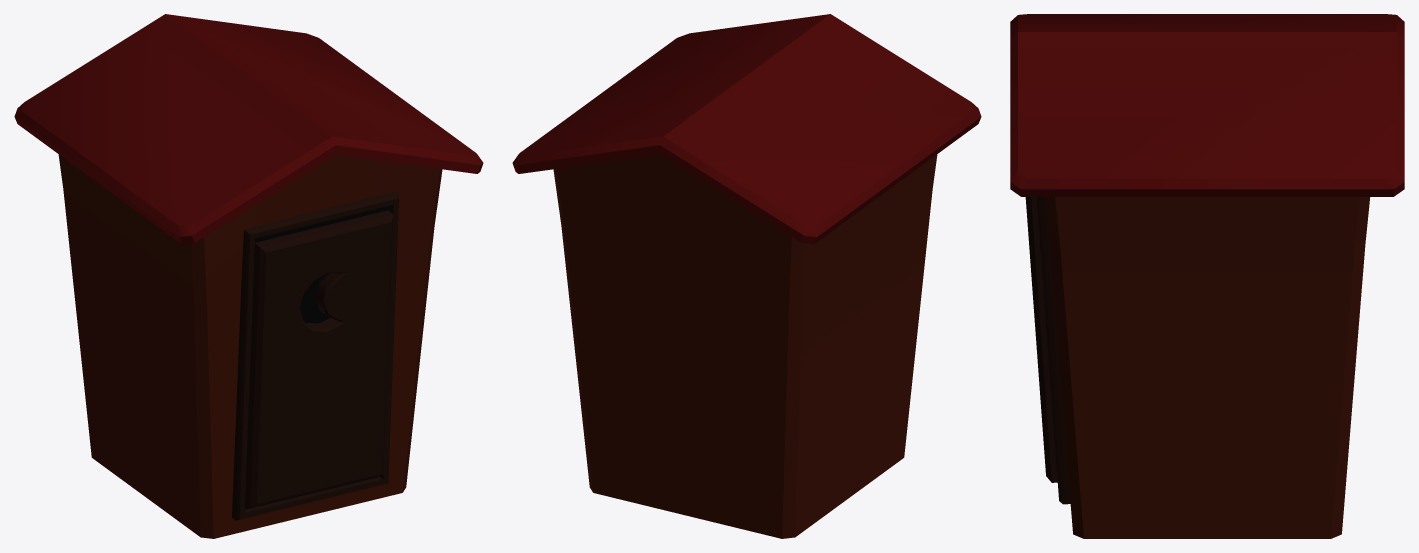
The model's file is Latrine.fbx.
3 views of the same model, side by side, from view 1: azimuth 30°, elevation 25°; view 2: azimuth 150°, elevation 25°; view 3: azimuth 270°, elevation 25° (orthographic). The views are drawn at different scales.
Visible parts, largest first — view 1: bathroom; view 2: bathroom; view 3: bathroom.
Boxes of the visible parts, left/top/right/bottom form: bathroom: left=14, top=14, right=483, bottom=538; bathroom: left=512, top=14, right=981, bottom=538; bathroom: left=1010, top=14, right=1404, bottom=538.
Bounding box in the file's own units: 273 × 341 × 271.
